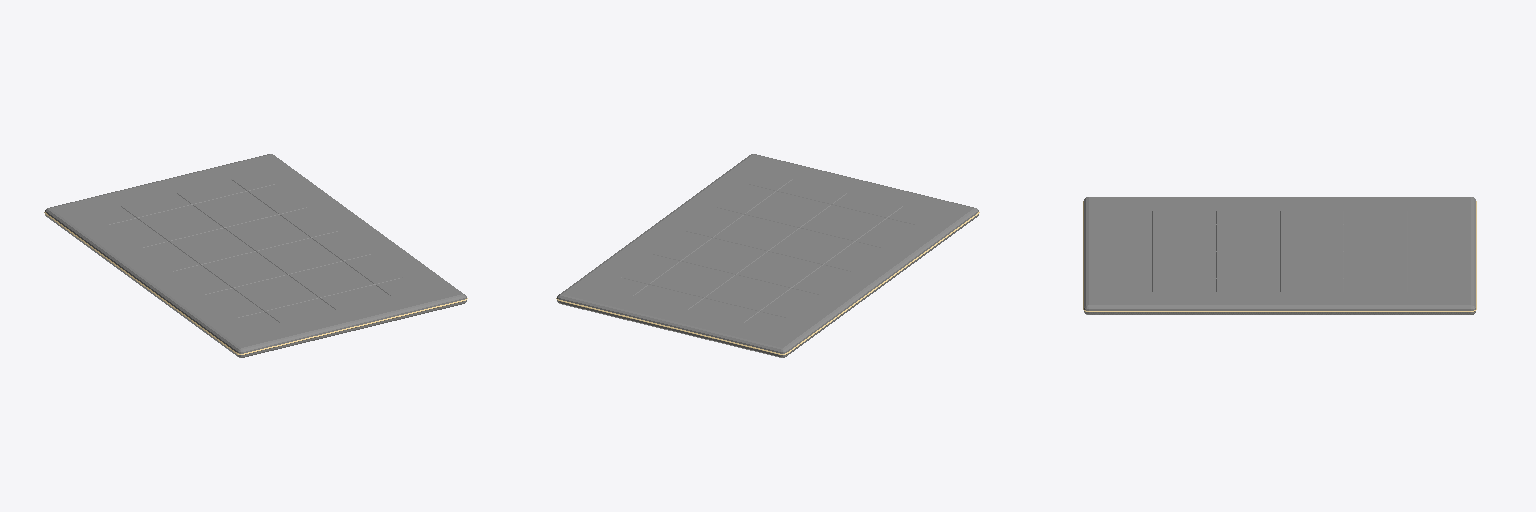
3 views of the same model, side by side, from view 1: azimuth 30°, elevation 25°; view 2: azimuth 150°, elevation 25°; view 3: azimuth 270°, elevation 25° (orthographic).
Visible parts, largest first — view 1: beige; view 2: beige; view 3: beige.
Part boxes in pixels (x1,y1,x2,y2): beige: (44, 154, 467, 357); beige: (556, 154, 979, 357); beige: (1083, 197, 1476, 314).
Bounding box in the file's own units: 3.67 × 0.1461 × 5.42.
Materials: 3 (1 with a texture image).